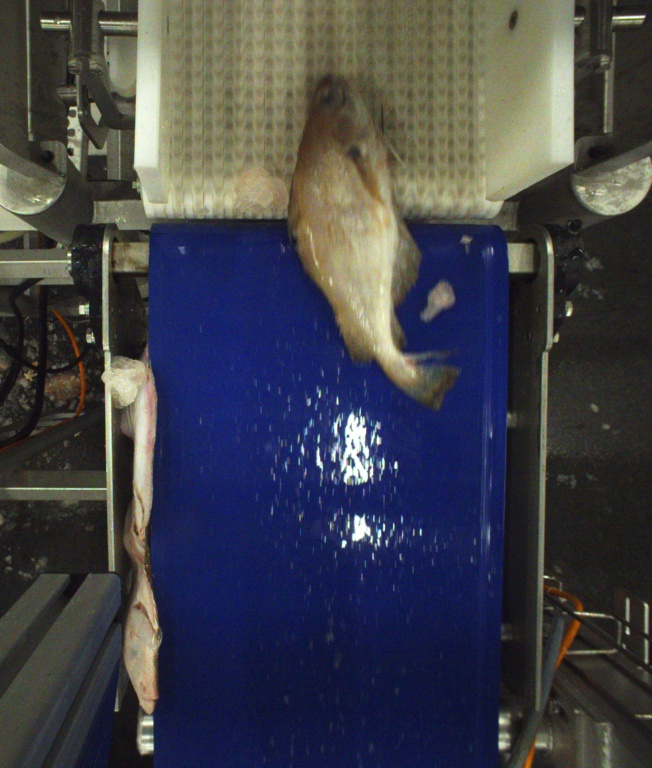BIB: (293, 72, 456, 412)
